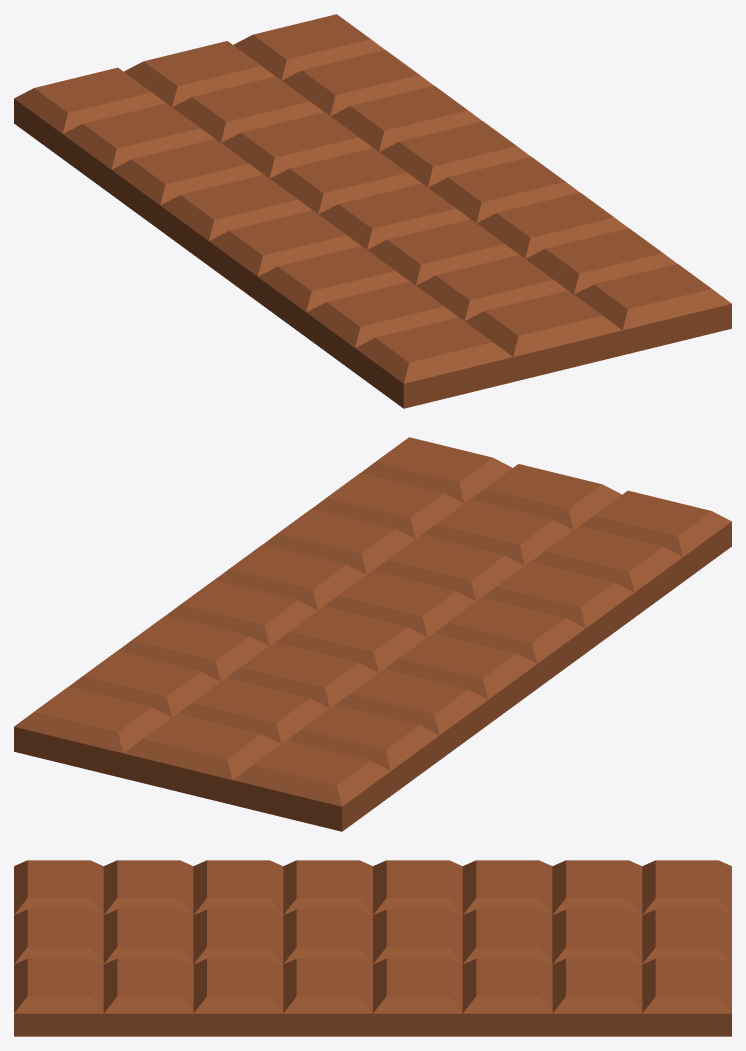
The model's file is chocolat.glb.
3 views of the same model, one above another, from view 1: azimuth 30°, elevation 25°; view 2: azimuth 150°, elevation 25°; view 3: azimuth 270°, elevation 25° (orthographic). The views are drawn at different scales.
Parts seen in each view (by area): view 1: Plane; view 2: Plane; view 3: Plane.
Part boxes in pixels (x1,y1,x2,y2): Plane: (14, 14, 731, 408); Plane: (14, 437, 731, 831); Plane: (14, 860, 731, 1036).
Bounding box in the file's own units: 2 × 0.2194 × 4.11.
